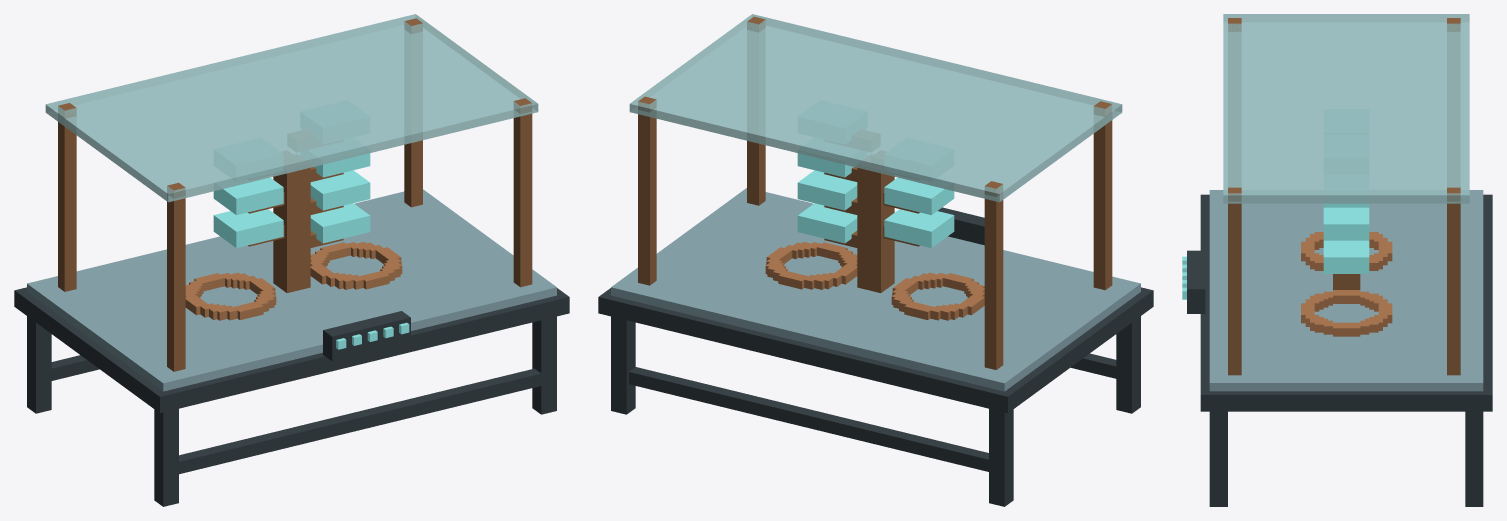
Rendered from arcane_studies_station_t10.glb.
3 renders of one model, left to right at view 1: azimuth 30°, elevation 25°; view 2: azimuth 150°, elevation 25°; view 3: azimuth 270°, elevation 25°, orthographic.
Visible parts, largest first — view 1: arcane_studies_station_t10/growth_chamber, arcane_studies_station_t10/work_surface, arcane_studies_station_t10/frame; view 2: arcane_studies_station_t10/growth_chamber, arcane_studies_station_t10/work_surface, arcane_studies_station_t10/frame; view 3: arcane_studies_station_t10/growth_chamber, arcane_studies_station_t10/work_surface, arcane_studies_station_t10/frame.
Part boxes in pixels (bbox=[...]): arcane_studies_station_t10/growth_chamber: bbox=[45, 14, 538, 371]; arcane_studies_station_t10/work_surface: bbox=[27, 189, 556, 391]; arcane_studies_station_t10/frame: bbox=[14, 287, 569, 506]; arcane_studies_station_t10/growth_chamber: bbox=[629, 14, 1122, 369]; arcane_studies_station_t10/work_surface: bbox=[611, 188, 1140, 391]; arcane_studies_station_t10/frame: bbox=[598, 287, 1153, 506]; arcane_studies_station_t10/growth_chamber: bbox=[1223, 14, 1469, 375]; arcane_studies_station_t10/work_surface: bbox=[1182, 190, 1483, 391]; arcane_studies_station_t10/frame: bbox=[1200, 194, 1492, 506].
Size of the model in its own units: 3.25 by 2.31 by 2.12.
